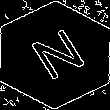N_SE: (21, 23, 89, 87)
